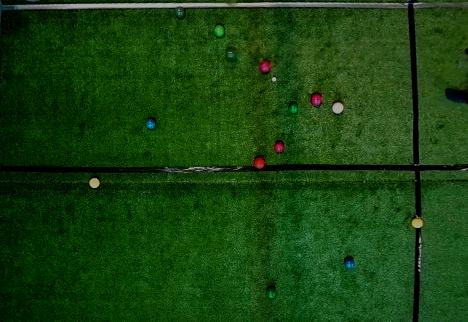blue: (344, 257, 355, 269), (145, 118, 156, 130)
green: (225, 49, 237, 62), (174, 7, 186, 19), (214, 24, 225, 37), (288, 102, 298, 114), (266, 287, 276, 299)
red: (310, 93, 322, 107), (259, 61, 271, 74), (332, 102, 344, 114), (253, 158, 265, 169), (274, 141, 284, 153)
vline: (408, 0, 467, 220), (413, 229, 467, 321), (0, 0, 5, 321)
white: (271, 77, 276, 82)
yellow: (89, 178, 100, 189), (411, 218, 423, 228)
